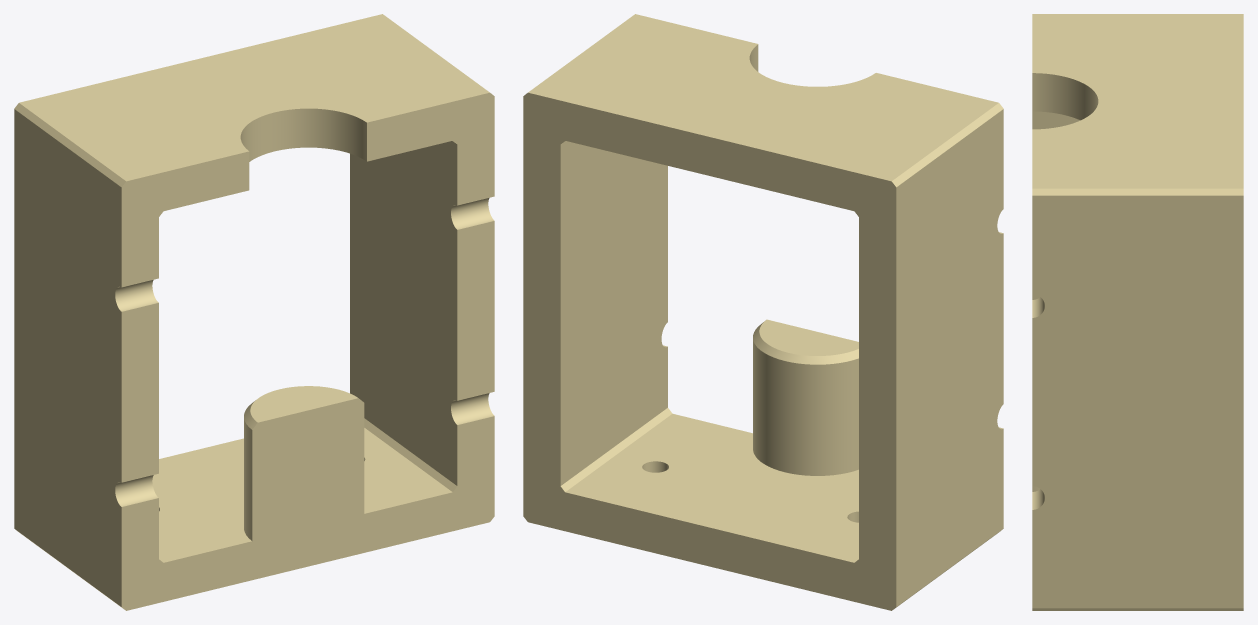
Rendered from frame.glb.
3 views of the same model, side by side, from view 1: azimuth 30°, elevation 25°; view 2: azimuth 150°, elevation 25°; view 3: azimuth 270°, elevation 25° (orthographic).
Parts seen in each view (by area): view 1: frame; view 2: frame; view 3: frame.
Part boxes in pixels (x1=…): frame: x1=14, y1=14, x2=494, y2=610; frame: x1=523, y1=14, x2=1003, y2=610; frame: x1=1032, y1=14, x2=1243, y2=610.
Bounding box in the file's own units: 40 × 44 × 19.94.
